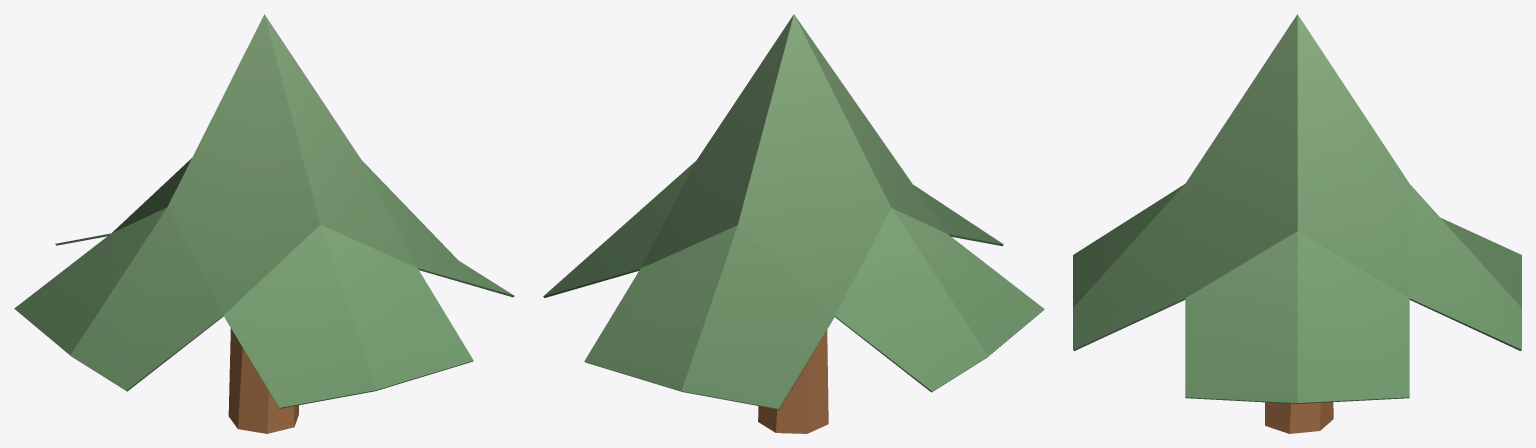
Rendered from pine 1.fbx.
3 renders of one model, left to right at view 1: azimuth 30°, elevation 25°; view 2: azimuth 150°, elevation 25°; view 3: azimuth 270°, elevation 25°, orthographic.
Visible parts, largest first — view 1: pine 1; view 2: pine 1; view 3: pine 1.
Part boxes in pixels (left/top/right/bottom): pine 1: left=14, top=14, right=514, bottom=433; pine 1: left=543, top=14, right=1044, bottom=433; pine 1: left=1073, top=14, right=1521, bottom=433.
Size of the model in its own units: 200 by 199 by 200.
